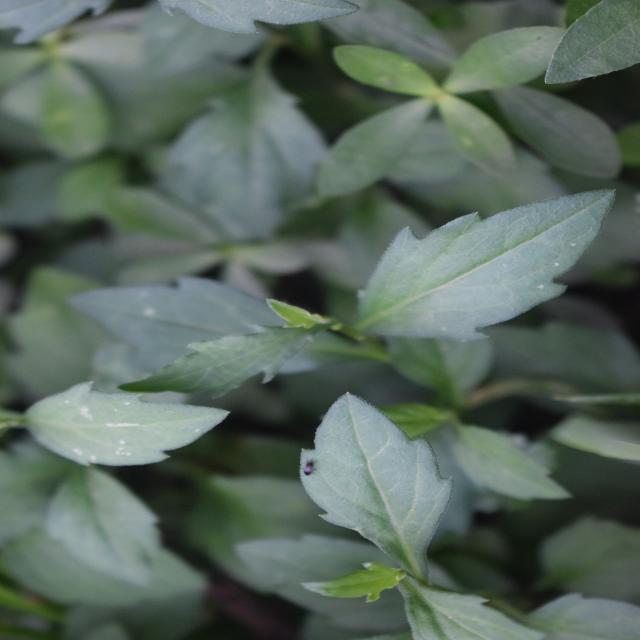Indian aster: (237, 132, 435, 605), (0, 276, 227, 590)
